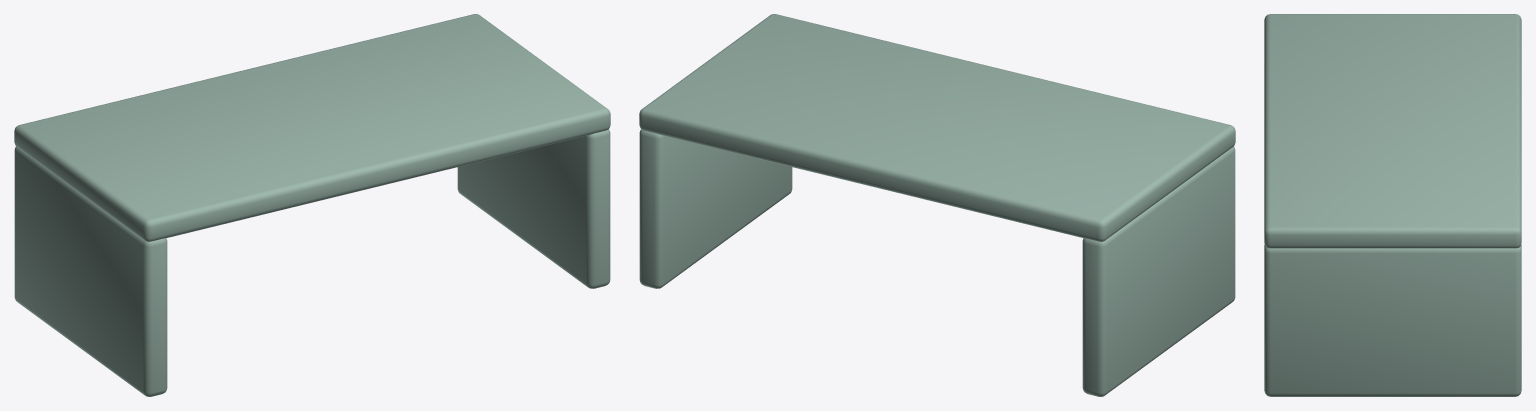
File: waterfall-table.glb
3 renders of one model, left to right at view 1: azimuth 30°, elevation 25°; view 2: azimuth 150°, elevation 25°; view 3: azimuth 270°, elevation 25°, orthographic. The views are drawn at different scales.
Parts seen in each view (by area): view 1: catalog_surface_RealismUV; view 2: catalog_surface_RealismUV; view 3: catalog_surface_RealismUV.
Boxes of the visible parts, box(x1,y1,x2,y2) form: catalog_surface_RealismUV: box(14, 14, 610, 396); catalog_surface_RealismUV: box(639, 14, 1235, 396); catalog_surface_RealismUV: box(1264, 14, 1521, 396).
Size of the model in its own units: 1.1 by 0.4 by 0.55.
